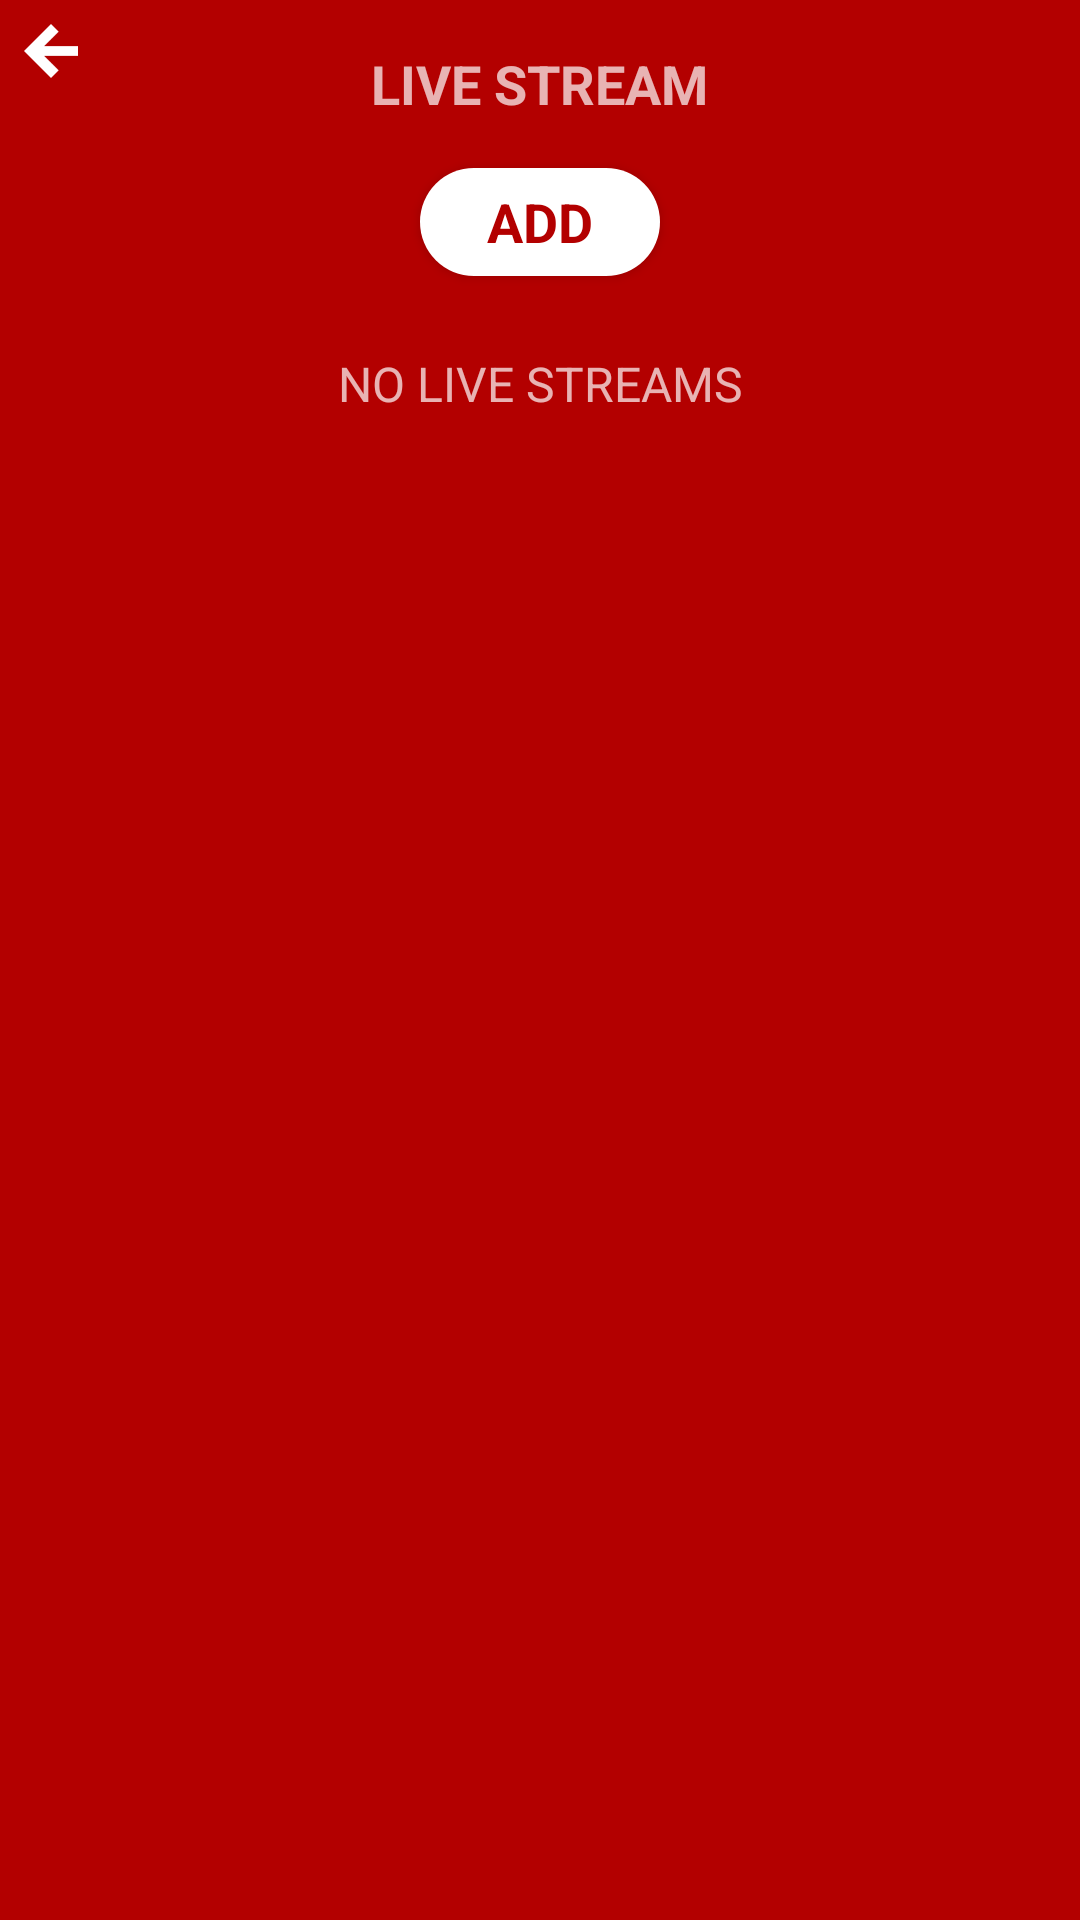

Named icons in this screenshot (1080px×1920px) and their centers, [x,y]:
arrow left: [51,51]
